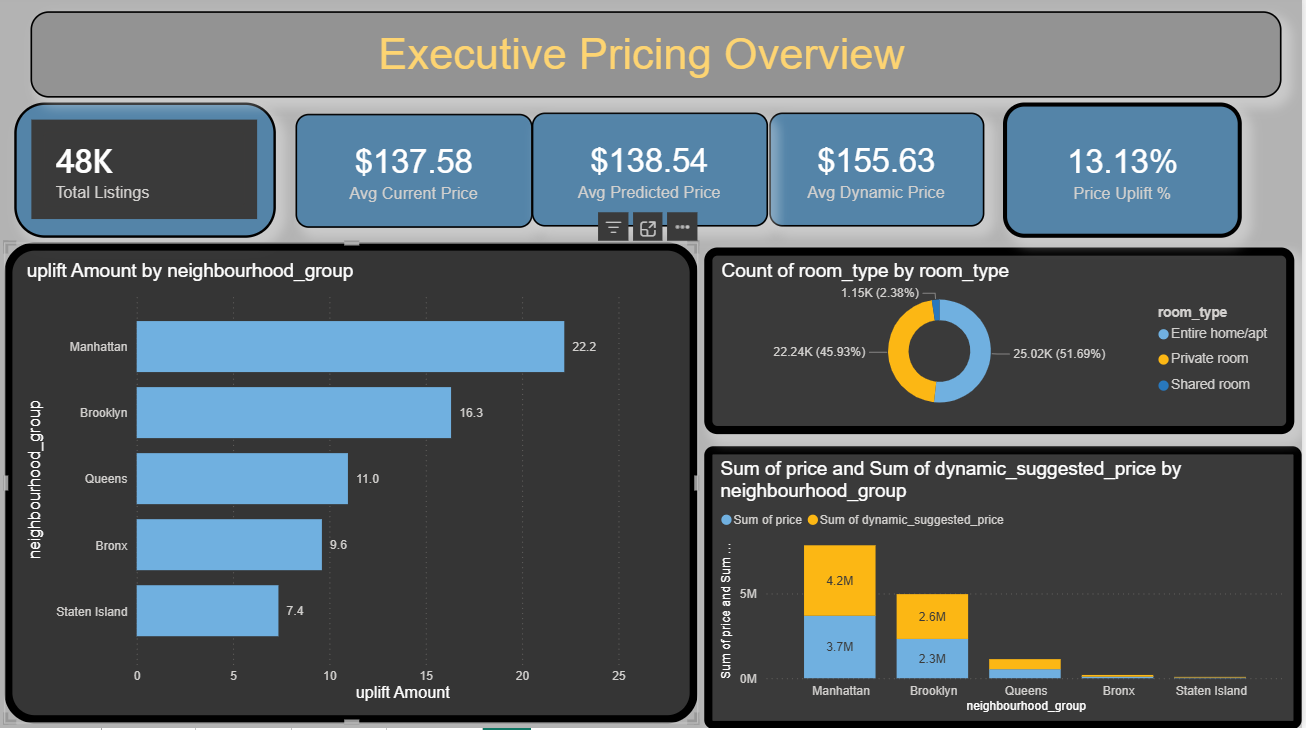

The page's visual inventory and layout, read from the dashboard file:
{"tool":"powerbi","page":{"name":"Page 1","canvas":[1280,720],"ordinal":0},"visuals":[{"type":"cardVisual","fields":{"Data":["nyc_dynamic_pricing_final.Total Listings"]},"box":[16,105.5,256.4,132.5],"z":0},{"type":"card","fields":{"Values":["nyc_dynamic_pricing_final.Avg Current Price"]},"box":[292,116.6,233.1,111.7],"z":1000},{"type":"card","fields":{"Values":["nyc_dynamic_pricing_final.Avg Dynamic Price"]},"box":[757.1,115.3,211,111.7],"z":2000},{"type":"card","fields":{"Values":["nyc_dynamic_pricing_final.Avg Predicted Price"]},"box":[523.9,115.3,231.9,111.7],"z":4000},{"type":"columnChart","fields":{"Category":["nyc_dynamic_pricing_final.neighbourhood_group"],"Y":["Sum(nyc_dynamic_pricing_final.price)","Sum(nyc_dynamic_pricing_final.dynamic_suggested_price)"]},"box":[693.3,442.9,586.5,277.3],"z":5000},{"type":"donutChart","fields":{"Category":["nyc_dynamic_pricing_final.room_type"],"Y":["CountNonNull(nyc_dynamic_pricing_final.room_type)"]},"box":[693.3,247.9,579.1,182.8],"z":6000},{"type":"clusteredBarChart","fields":{"Category":["nyc_dynamic_pricing_final.neighbourhood_group"],"Y":["nyc_dynamic_pricing_final.uplift Amount"]},"box":[6.1,242.9,681,472.4],"z":7000},{"type":"textbox","box":[31.9,16,1228.2,84.7],"z":8000},{"type":"card","fields":{"Values":["nyc_dynamic_pricing_final.Price Uplift %"]},"box":[986.5,105.5,234.4,132.5],"z":9000}]}

Visuals, with their boxes in screenshot pixels (x1, y1, x2, y2), scaled from the page's 1280x720 canvas onto the 1306x730 screenshot:
cardVisual - nyc_dynamic_pricing_final.Total Listings: [16,107,278,241]
card - nyc_dynamic_pricing_final.Avg Current Price: [298,118,536,231]
card - nyc_dynamic_pricing_final.Avg Dynamic Price: [772,117,988,230]
card - nyc_dynamic_pricing_final.Avg Predicted Price: [535,117,771,230]
columnChart - nyc_dynamic_pricing_final.neighbourhood_group x Sum(nyc_dynamic_pricing_final.price): [707,449,1305,729]
donutChart - nyc_dynamic_pricing_final.room_type x CountNonNull(nyc_dynamic_pricing_final.room_type): [707,251,1298,437]
clusteredBarChart - nyc_dynamic_pricing_final.neighbourhood_group x nyc_dynamic_pricing_final.uplift Amount: [6,246,701,725]
textbox: [33,16,1286,102]
card - nyc_dynamic_pricing_final.Price Uplift %: [1007,107,1246,241]
